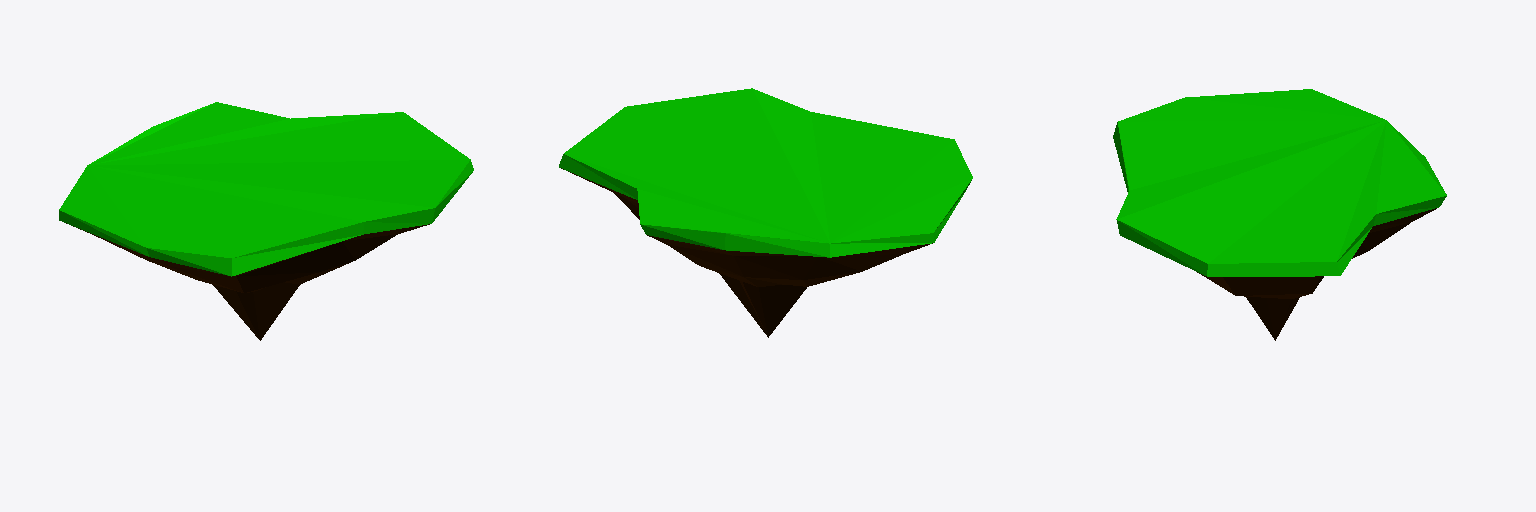
File: island.obj
3 views of the same model, side by side, from view 1: azimuth 30°, elevation 25°; view 2: azimuth 150°, elevation 25°; view 3: azimuth 270°, elevation 25° (orthographic).
Parts seen in each view (by area): view 1: Vert; view 2: Vert; view 3: Vert.
Boxes of the visible parts, x1=… form: Vert: x1=59, y1=102, x2=473, y2=340; Vert: x1=559, y1=88, x2=972, y2=337; Vert: x1=1113, y1=89, x2=1446, y2=340.
Bounding box in the file's own units: 12.25 × 5.42 × 9.76.